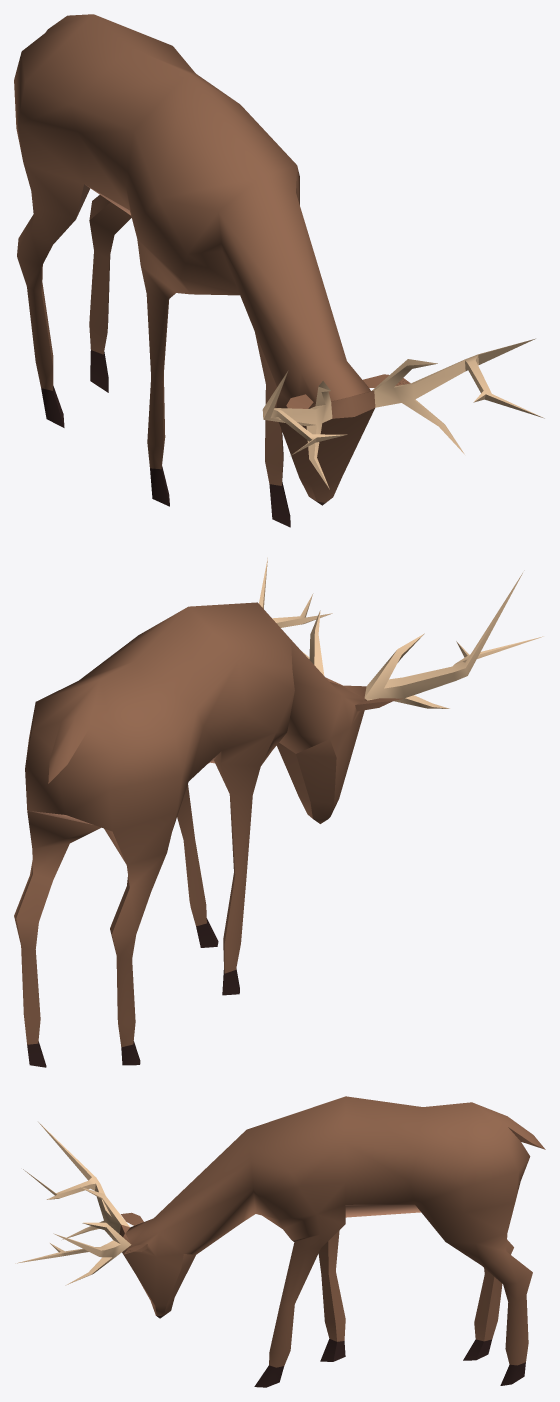
The model's file is deer-ver3.glb.
3 renders of one model, top to bottom at view 1: azimuth 30°, elevation 25°; view 2: azimuth 150°, elevation 25°; view 3: azimuth 270°, elevation 25°, orthographic. The views are drawn at different scales.
Visible parts, largest first — view 1: Deer-ver3_Texture-base_0; view 2: Deer-ver3_Texture-base_0; view 3: Deer-ver3_Texture-base_0.
Part boxes in pixels (x1=…): Deer-ver3_Texture-base_0: x1=14, y1=14, x2=544, y2=527; Deer-ver3_Texture-base_0: x1=14, y1=557, x2=543, y2=1067; Deer-ver3_Texture-base_0: x1=15, y1=1096, x2=545, y2=1387.
Bounding box in the file's own units: 0.8856 × 1.29 × 2.23.
1 material, 1 textured.
